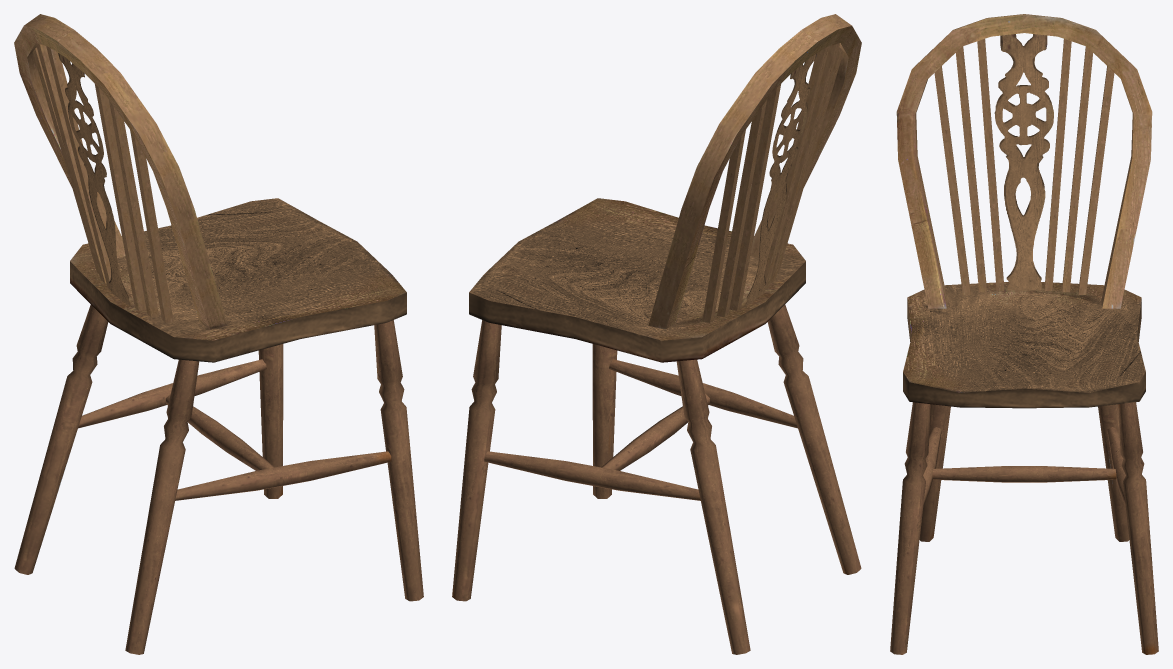
Rendered from chair copy.glb.
3 renders of one model, left to right at view 1: azimuth 30°, elevation 25°; view 2: azimuth 150°, elevation 25°; view 3: azimuth 270°, elevation 25°, orthographic. The views are drawn at different scales.
Parts seen in each view (by area): view 1: Cube_0; view 2: Cube_0; view 3: Cube_0.
Part boxes in pixels (x1,y1,x2,y2): Cube_0: (14, 14, 423, 654); Cube_0: (452, 14, 861, 654); Cube_0: (890, 14, 1158, 654).
Size of the model in its own units: 0.5123 by 0.956 by 0.4455.
1 material, 1 textured.
